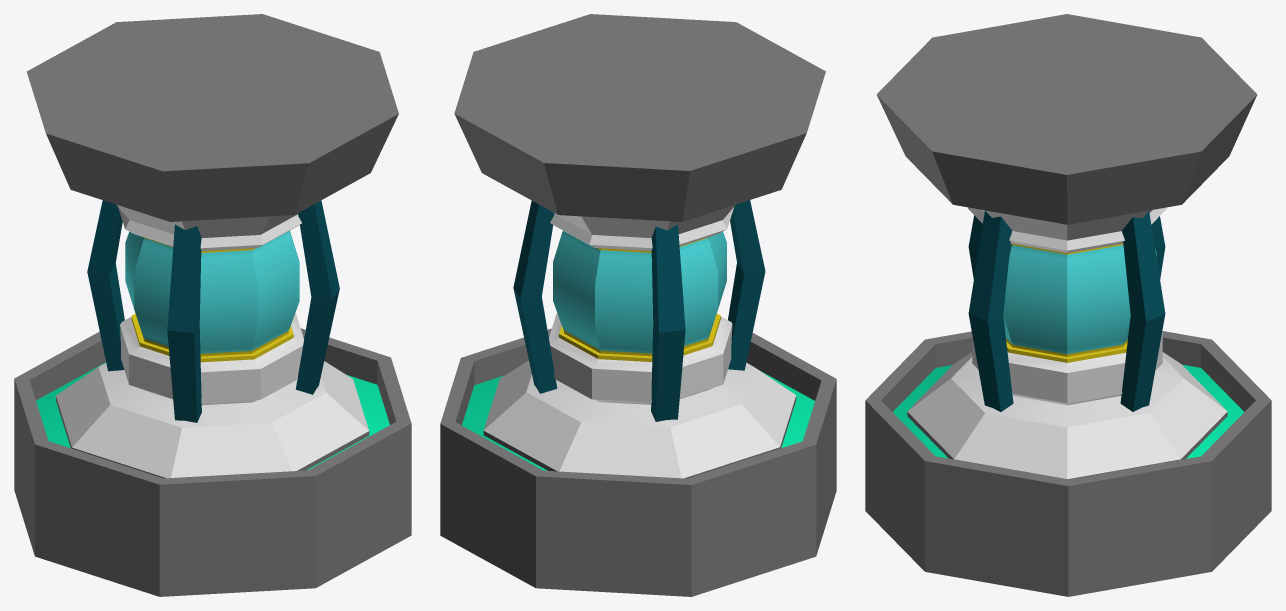
Rendered from Asset1.fbx.
The picture shows the model from 3 angles, left to right: view 1: azimuth 30°, elevation 25°; view 2: azimuth 150°, elevation 25°; view 3: azimuth 270°, elevation 25°; orthographic projection.
Visible parts, largest first — view 1: Cylinder.012; view 2: Cylinder.012; view 3: Cylinder.012.
Boxes of the visible parts, box(x1,y1,x2,y2) form: Cylinder.012: box(14, 14, 411, 596); Cylinder.012: box(440, 14, 836, 596); Cylinder.012: box(865, 14, 1271, 596).
Size of the model in its own units: 2273 by 2569 by 2272.
